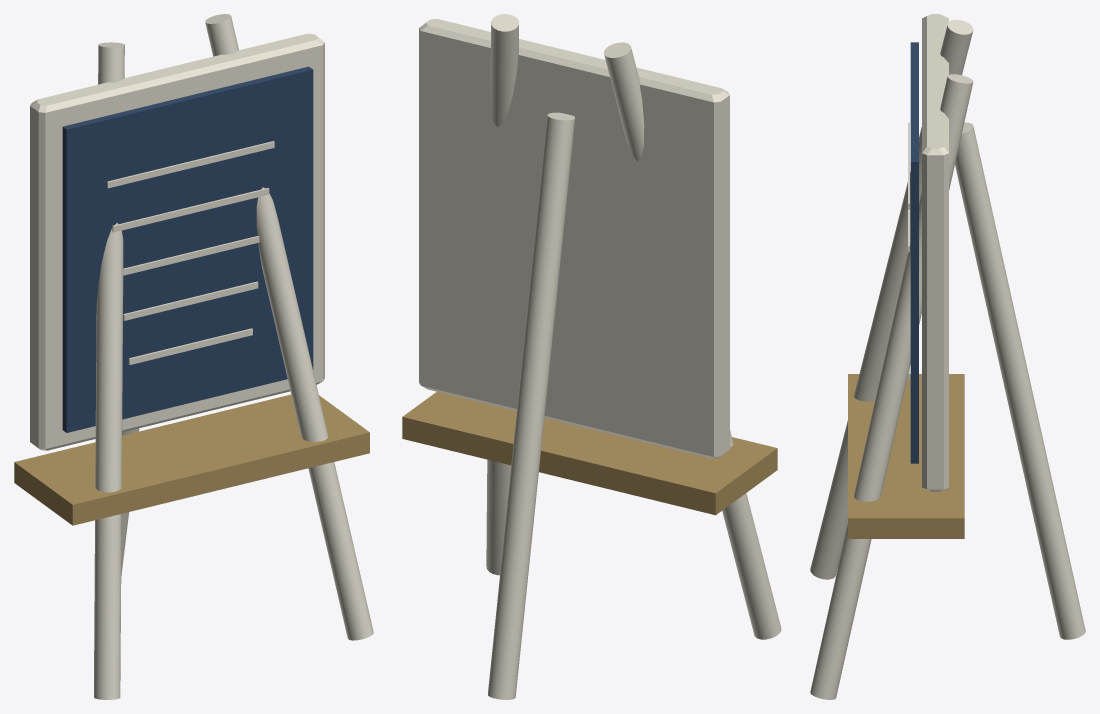
File: menu_easel.glb
The picture shows the model from 3 angles, left to right: view 1: azimuth 30°, elevation 25°; view 2: azimuth 150°, elevation 25°; view 3: azimuth 270°, elevation 25°; orthographic projection. The views are drawn at different scales.
Visible parts, largest first — view 1: _MeshInstance3D_1365, _MeshInstance3D_1364, _MeshInstance3D_1363, _MeshInstance3D_1360, _MeshInstance3D_1361, _MeshInstance3D_1366, _MeshInstance3D_1367, _MeshInstance3D_1368, _MeshInstance3D_1369, _MeshInstance3D_1370; view 2: _MeshInstance3D_1364, _MeshInstance3D_1363, _MeshInstance3D_1362, _MeshInstance3D_1360, _MeshInstance3D_1361; view 3: _MeshInstance3D_1362, _MeshInstance3D_1364, _MeshInstance3D_1361, _MeshInstance3D_1363, _MeshInstance3D_1360, _MeshInstance3D_1365.
Part boxes in pixels (<box>): _MeshInstance3D_1365: <box>62,66,313,432</box>; _MeshInstance3D_1364: <box>30,33,324,450</box>; _MeshInstance3D_1363: <box>14,394,369,525</box>; _MeshInstance3D_1360: <box>94,42,124,699</box>; _MeshInstance3D_1361: <box>205,14,373,640</box>; _MeshInstance3D_1366: <box>107,141,274,188</box>; _MeshInstance3D_1367: <box>112,188,269,232</box>; _MeshInstance3D_1368: <box>123,236,259,275</box>; _MeshInstance3D_1369: <box>123,281,258,320</box>; _MeshInstance3D_1370: <box>128,328,252,364</box>; _MeshInstance3D_1364: <box>419,19,729,458</box>; _MeshInstance3D_1363: <box>402,392,777,515</box>; _MeshInstance3D_1362: <box>488,112,575,699</box>; _MeshInstance3D_1360: <box>604,42,781,639</box>; _MeshInstance3D_1361: <box>486,14,518,575</box>; _MeshInstance3D_1362: <box>955,122,1085,639</box>; _MeshInstance3D_1364: <box>922,14,948,491</box>; _MeshInstance3D_1361: <box>810,74,973,699</box>; _MeshInstance3D_1363: <box>848,374,964,538</box>; _MeshInstance3D_1360: <box>810,19,973,579</box>; _MeshInstance3D_1365: <box>910,42,918,463</box>.
Bounding box in the file's own units: 0.82 × 1.56 × 0.6627.
